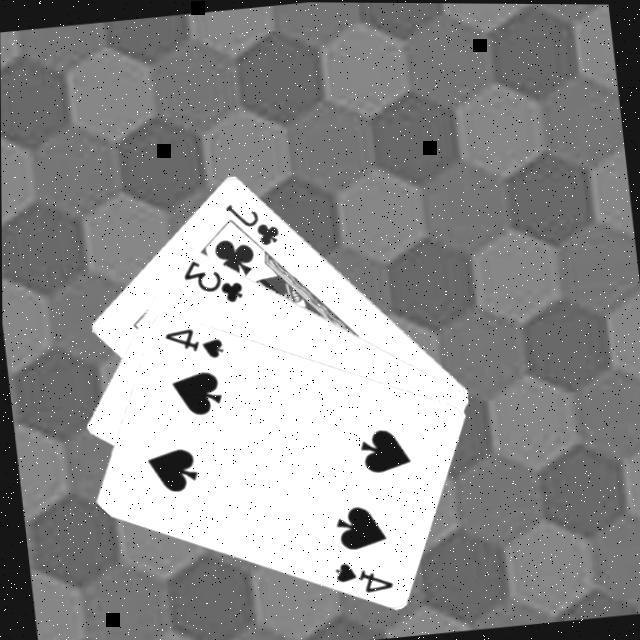3C: (178, 252, 248, 310)
4S: (160, 322, 228, 367), (330, 554, 398, 598)
JC: (222, 196, 284, 253)
